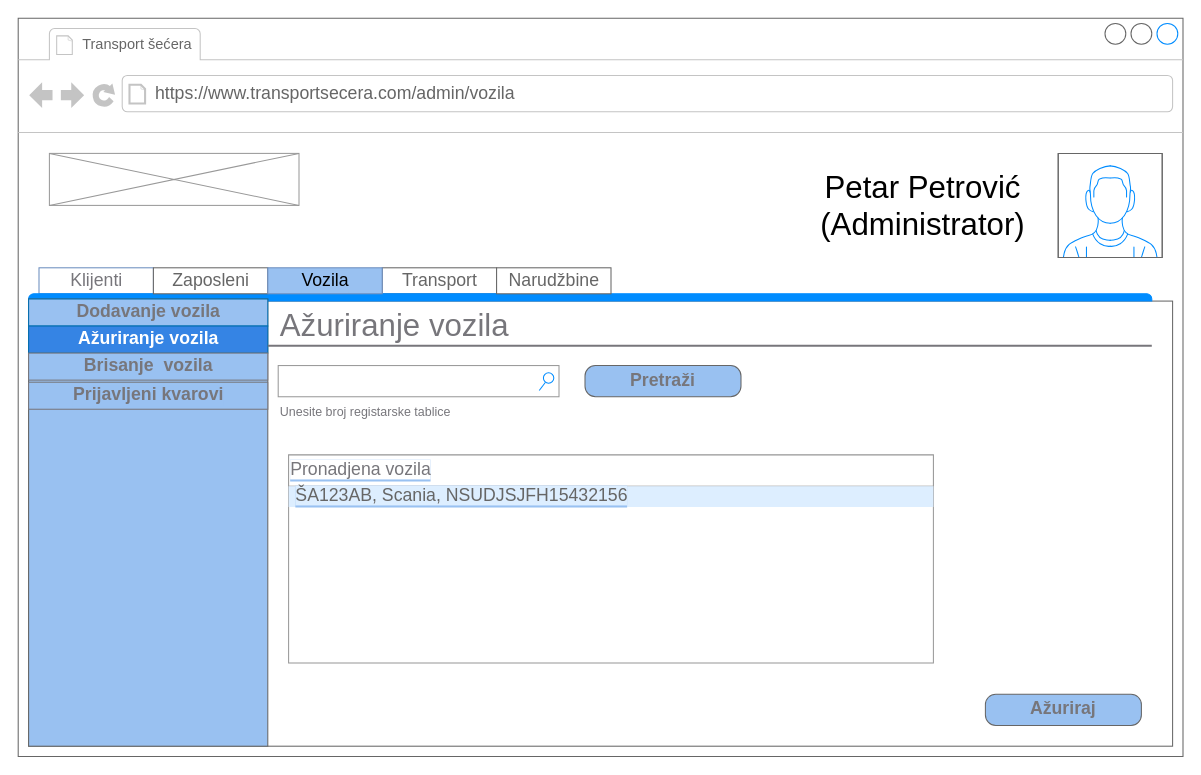
Some shapes in this 1201 by 775 pixel diagram are drawn without their labels. Each missing label, with the box of its shape:
LOGO: (48, 152, 299, 205)
SA123AB: (277, 365, 559, 397)
